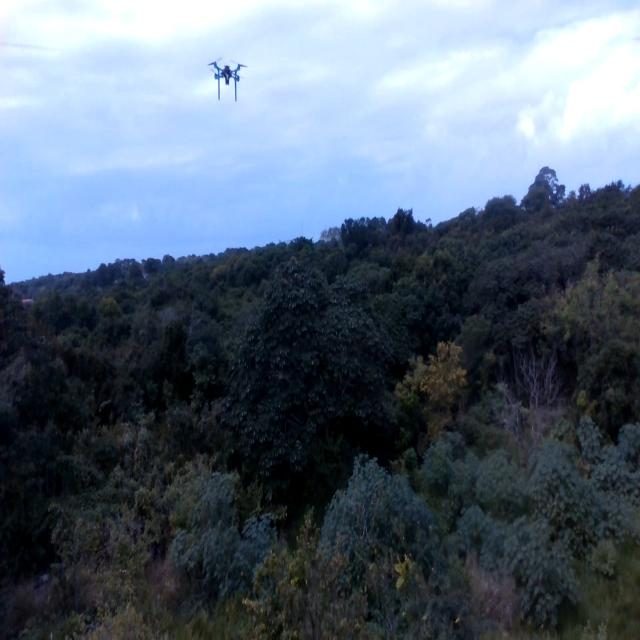-uav-: (192, 19, 264, 123)
